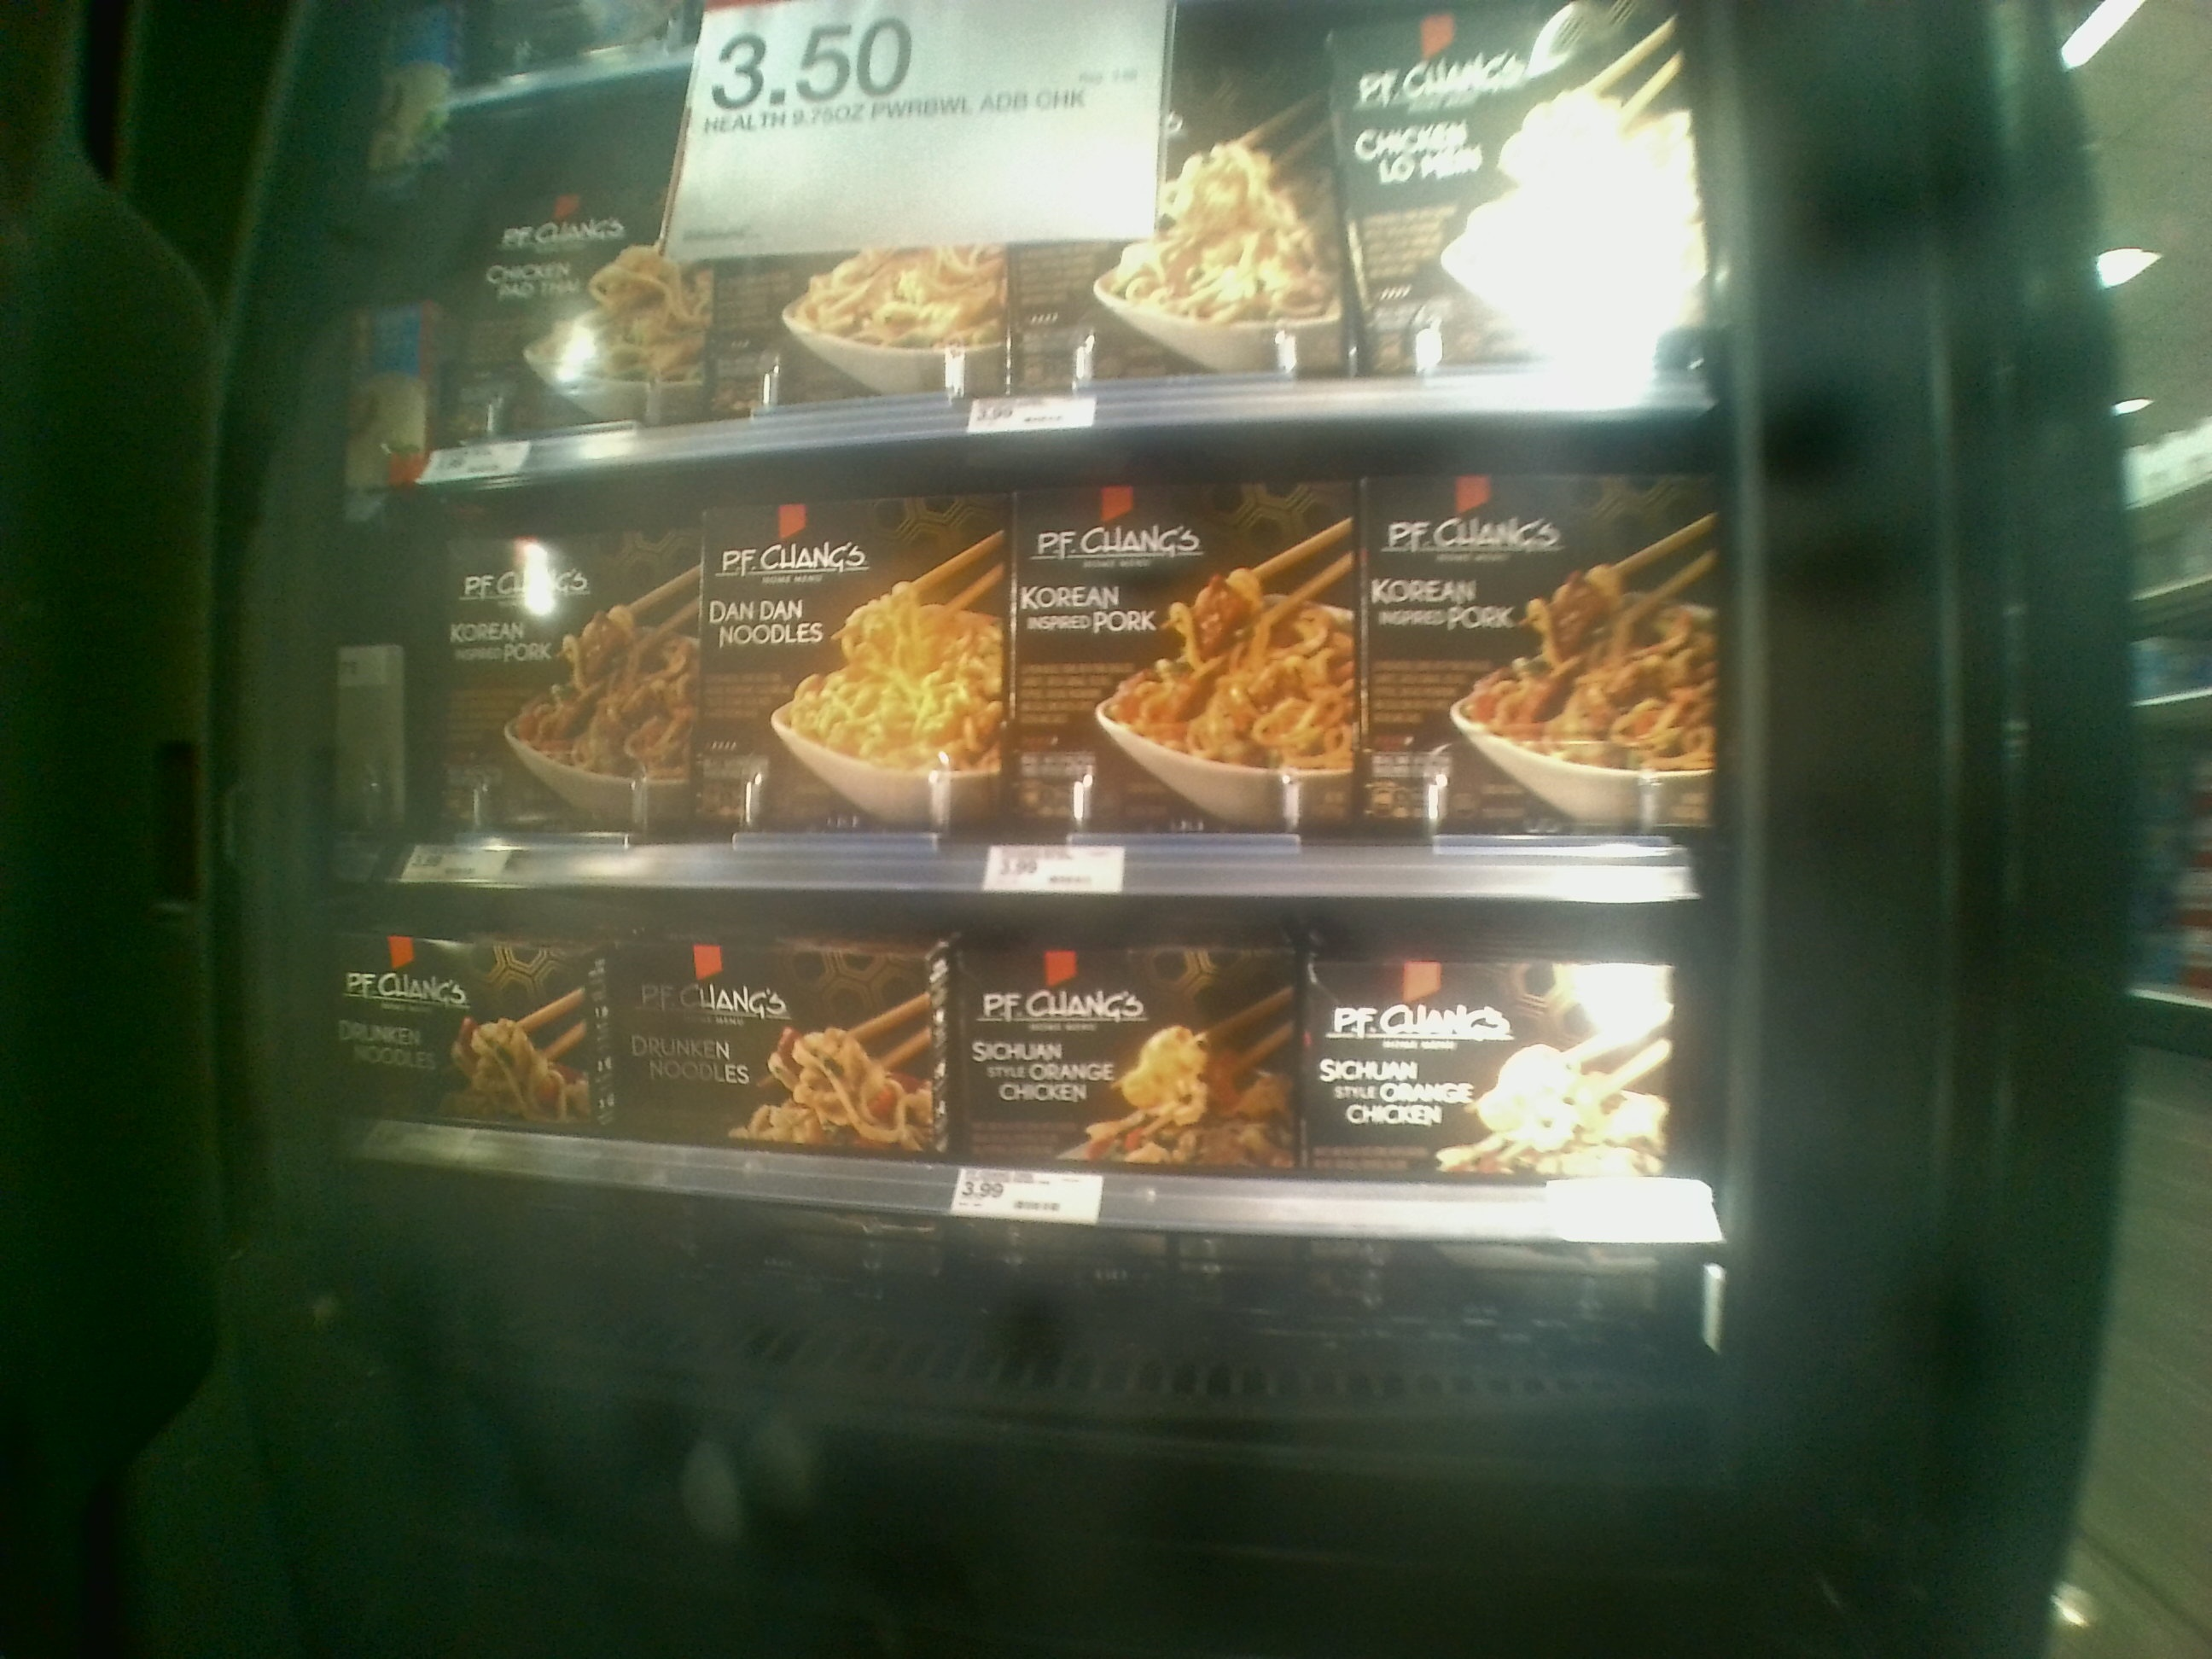shelf: (341, 878, 1728, 1270)
